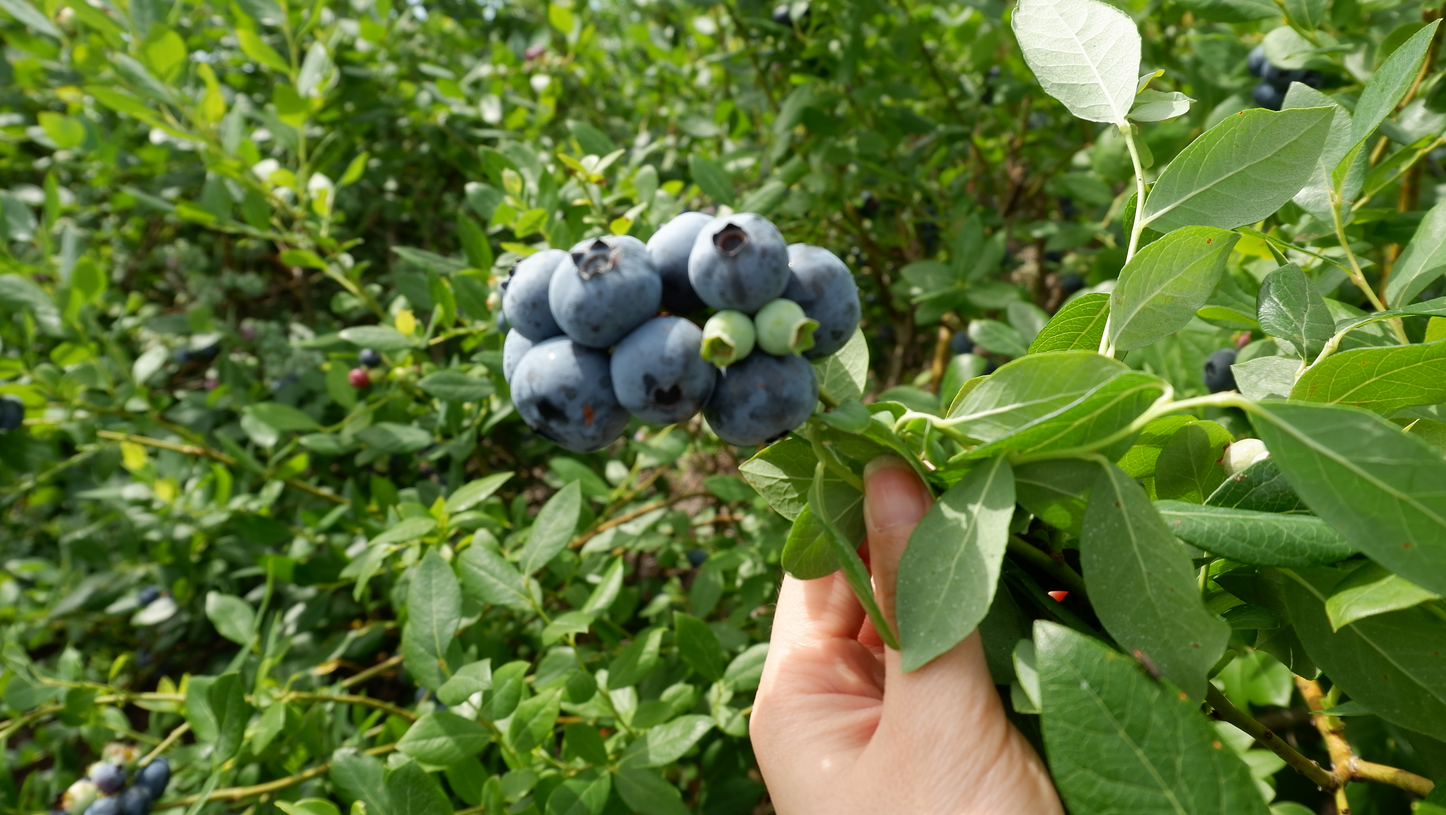Immature: (754, 298, 814, 353), (700, 309, 756, 367)
Mature: (511, 337, 630, 449), (548, 235, 663, 345), (609, 317, 712, 423), (703, 350, 819, 444), (688, 212, 789, 312), (787, 243, 861, 354), (647, 211, 714, 315), (501, 249, 570, 341), (503, 327, 537, 386)
